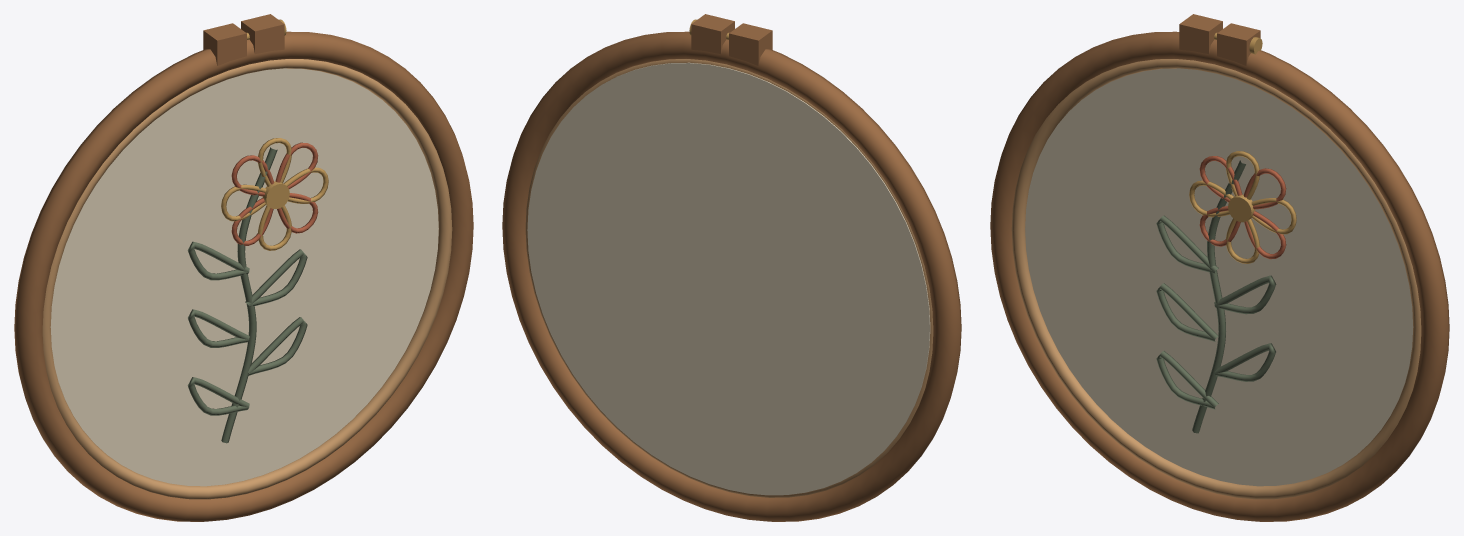
The model's file is embroidery-hoop.glb.
3 views of the same model, side by side, from view 1: azimuth 30°, elevation 25°; view 2: azimuth 150°, elevation 25°; view 3: azimuth 330°, elevation 25° (orthographic).
Visible parts, largest first — view 1: linen-disc, outer-oak-hoop, inner-oak-hoop, embroidered-stem, hoop-clamp-left, hoop-clamp-right, embroidered-leaf-1, embroidered-leaf-3, embroidered-leaf-2, embroidered-leaf-0, embroidered-leaf-4, flower-center (+6 smaller); view 2: linen-disc, outer-oak-hoop, inner-oak-hoop, hoop-clamp-left, hoop-clamp-right; view 3: linen-disc, outer-oak-hoop, inner-oak-hoop, embroidered-stem, hoop-clamp-left, hoop-clamp-right, embroidered-leaf-2, embroidered-leaf-0, embroidered-leaf-4, embroidered-leaf-1, embroidered-leaf-3, flower-center (+6 smaller).
Part boxes in pixels (x1,y1,x2,y2): linen-disc: [50, 68, 438, 486]; outer-oak-hoop: [14, 31, 473, 521]; inner-oak-hoop: [42, 59, 452, 499]; embroidered-stem: [221, 147, 277, 443]; hoop-clamp-left: [203, 23, 246, 65]; hoop-clamp-right: [241, 14, 284, 54]; embroidered-leaf-1: [248, 317, 307, 375]; embroidered-leaf-3: [245, 249, 307, 307]; embroidered-leaf-2: [188, 309, 249, 347]; embroidered-leaf-0: [187, 377, 249, 415]; embroidered-leaf-4: [187, 241, 249, 280]; flower-center: [262, 181, 289, 208]; linen-disc: [527, 62, 930, 495]; outer-oak-hoop: [502, 31, 961, 521]; inner-oak-hoop: [525, 59, 933, 497]; hoop-clamp-left: [729, 23, 772, 65]; hoop-clamp-right: [691, 14, 734, 54]; linen-disc: [1025, 68, 1413, 486]; outer-oak-hoop: [990, 31, 1449, 521]; inner-oak-hoop: [1011, 59, 1421, 499]; embroidered-stem: [1192, 160, 1245, 433]; hoop-clamp-left: [1179, 14, 1222, 54]; hoop-clamp-right: [1217, 23, 1260, 65]; embroidered-leaf-2: [1156, 283, 1218, 341]; embroidered-leaf-0: [1156, 351, 1218, 409]; embroidered-leaf-4: [1156, 215, 1218, 273]; embroidered-leaf-1: [1214, 343, 1275, 381]; embroidered-leaf-3: [1214, 275, 1276, 314]; flower-center: [1228, 194, 1255, 222].
Size of the model in its own units: 1.69 by 1.73 by 0.094.
